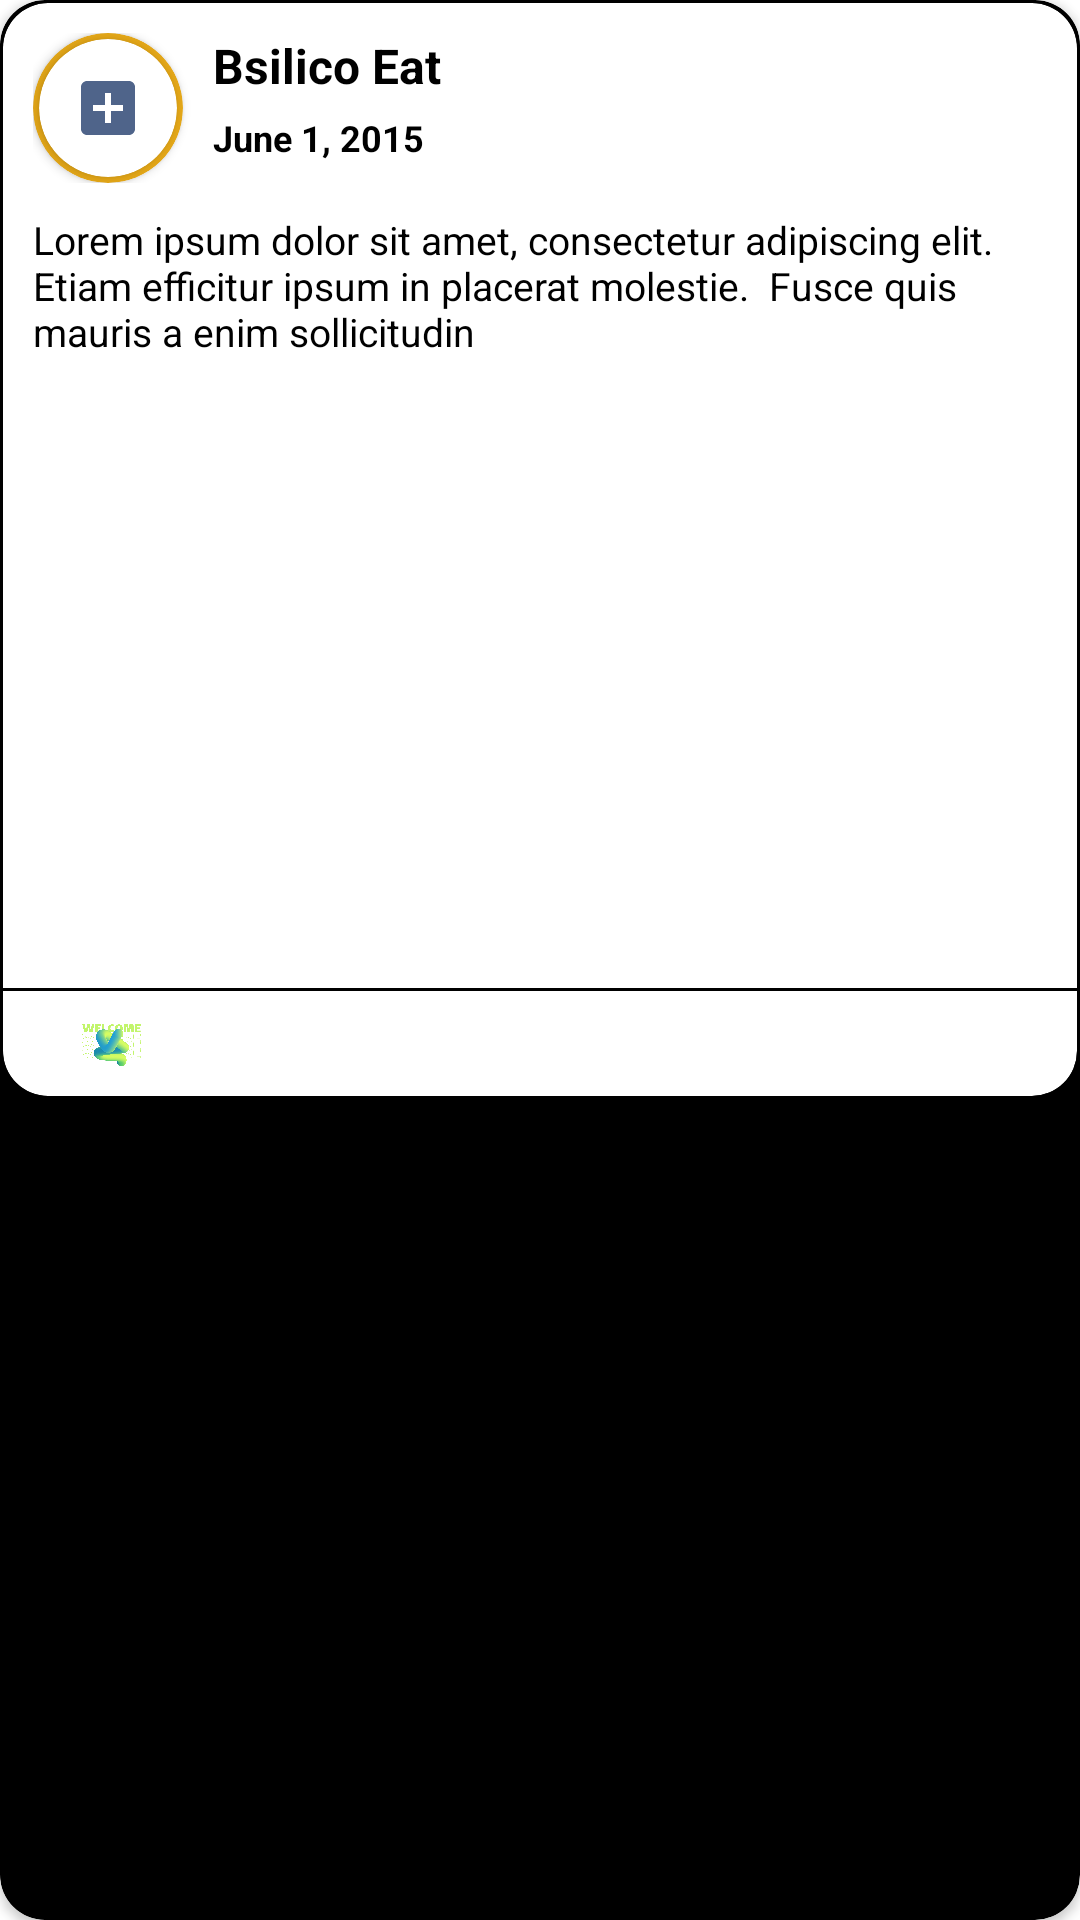

Point at icon controls on the screen. Image size 1080 x 1920, points as (x,y).
add box: (108,108)
